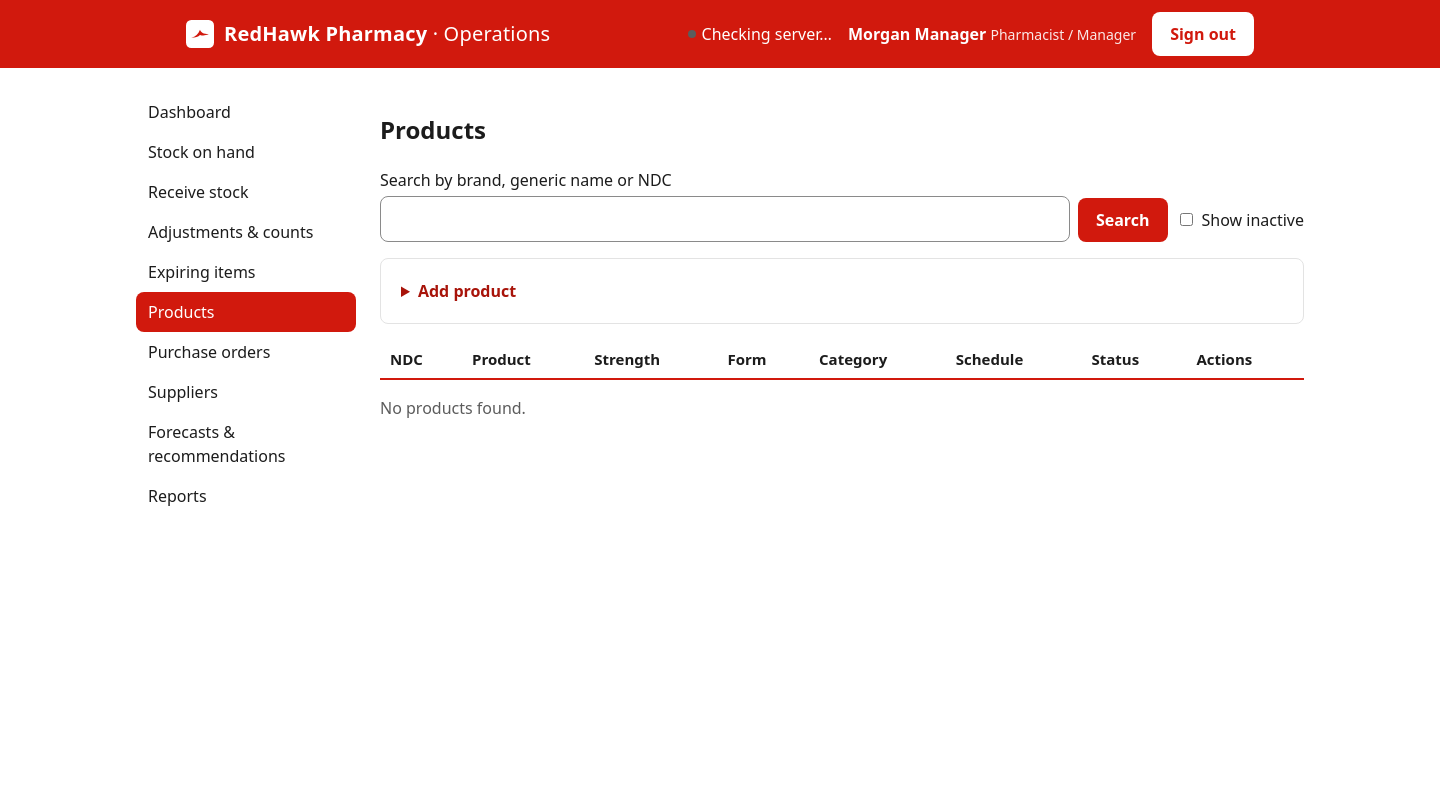
Test: products page (M02, F4) › managers can add a product, keeping NDC leading zeros (T25)
The image size is (1440, 795).
Click the heading "Add product" at (467, 291), box [418, 280, 516, 302]
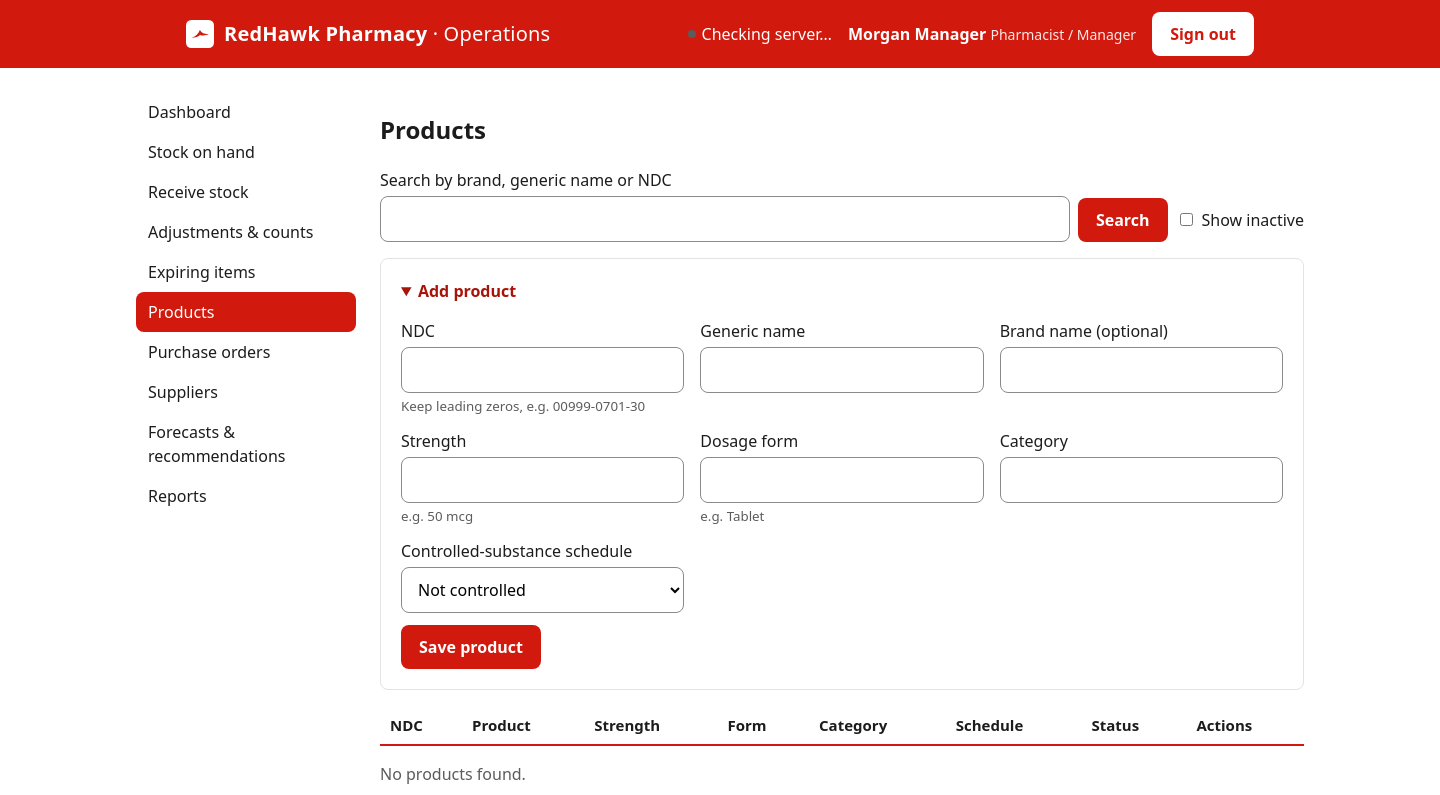
Type "00999-0701-30" into the field labelled "NDC" at (543, 370), box [401, 347, 684, 393]
Type "Levothyroxine" into the field labelled "Generic name" at (842, 370), box [700, 347, 984, 393]
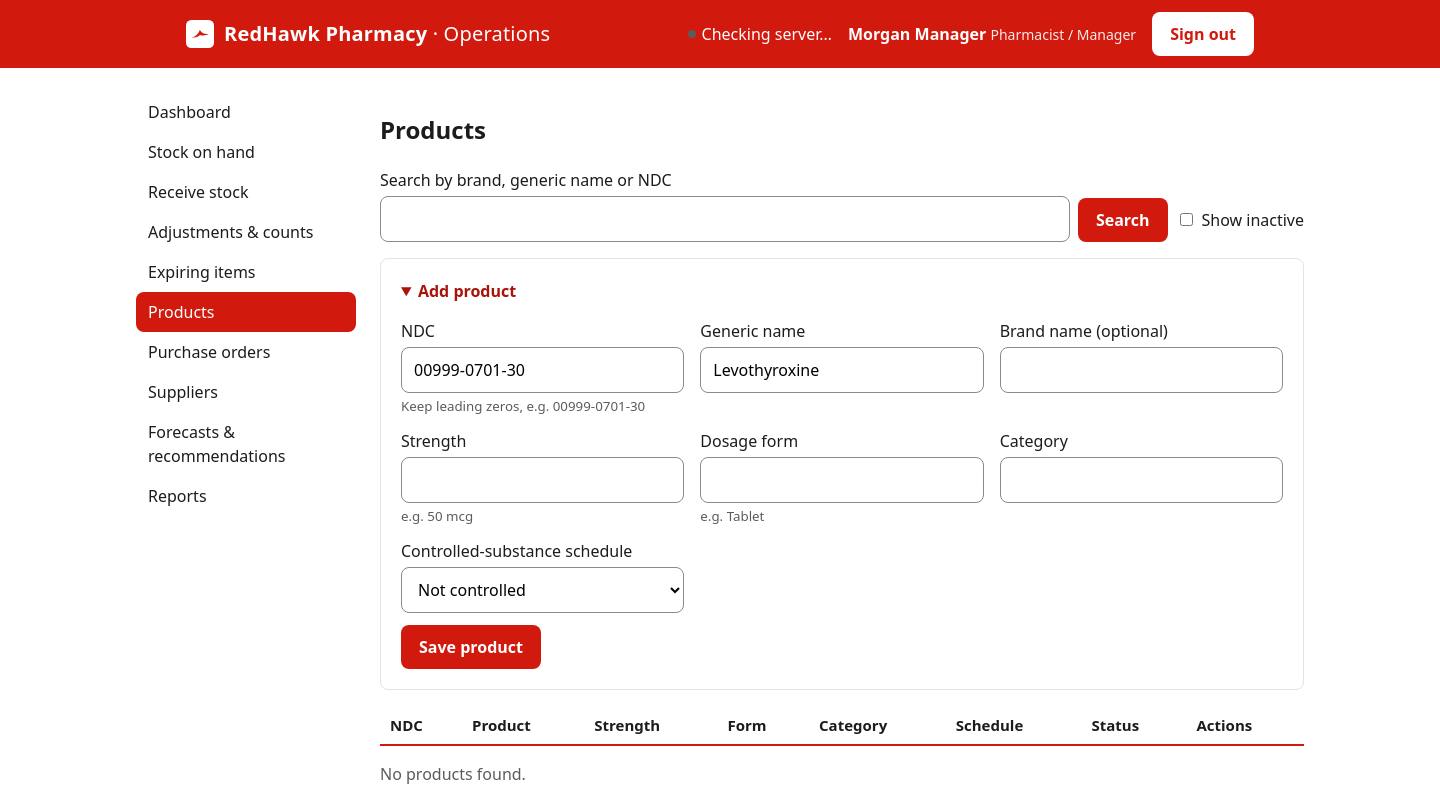
Type "50 mcg" into the field labelled "Strength" at (543, 480), box [401, 457, 684, 503]
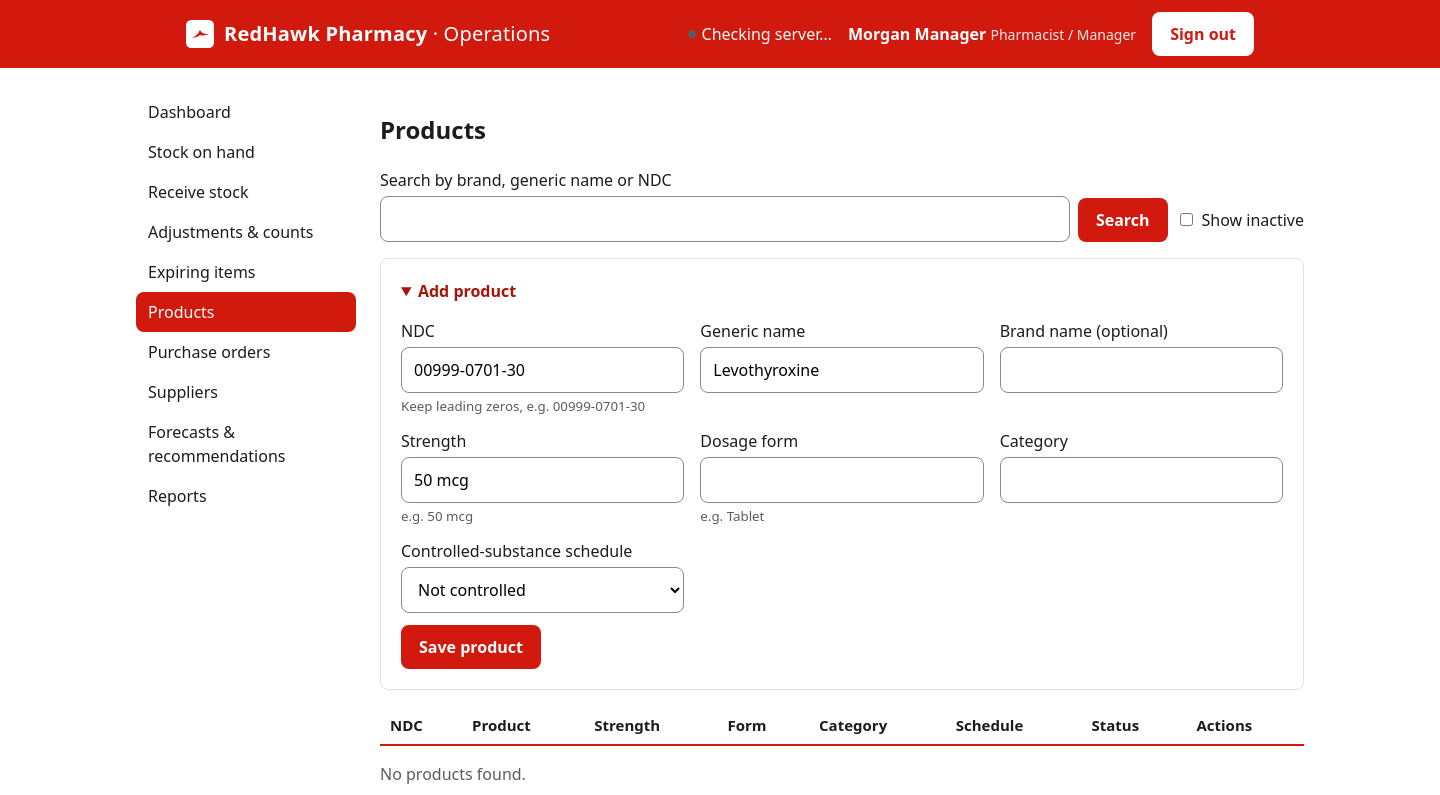
Type "Tablet" into the field labelled "Dosage form" at (842, 480), box [700, 457, 984, 503]
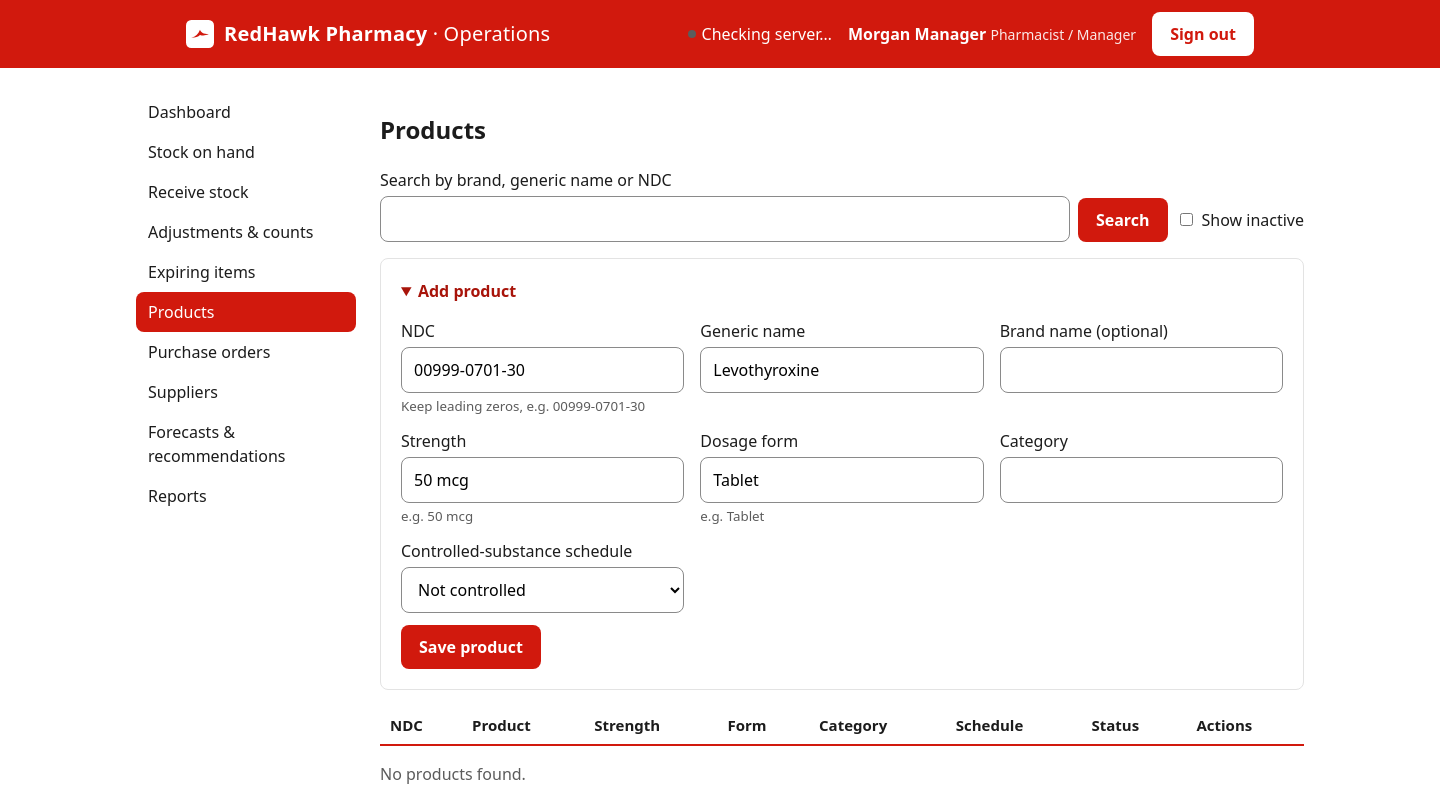
Type "Endocrine" into the field labelled "Category" at (1141, 480), box [1000, 457, 1283, 503]
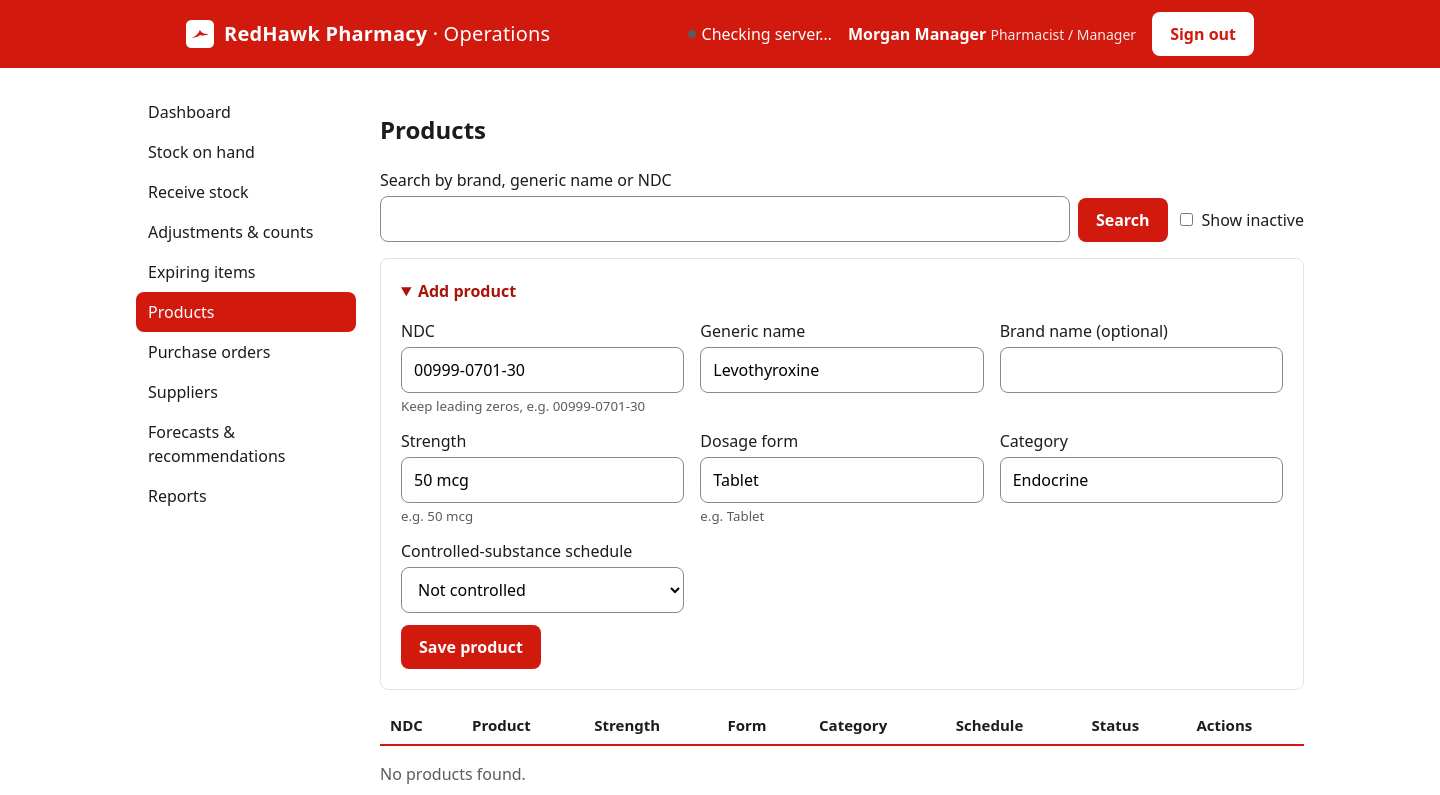
Click the button "Save product" at (471, 647), box [401, 625, 541, 669]
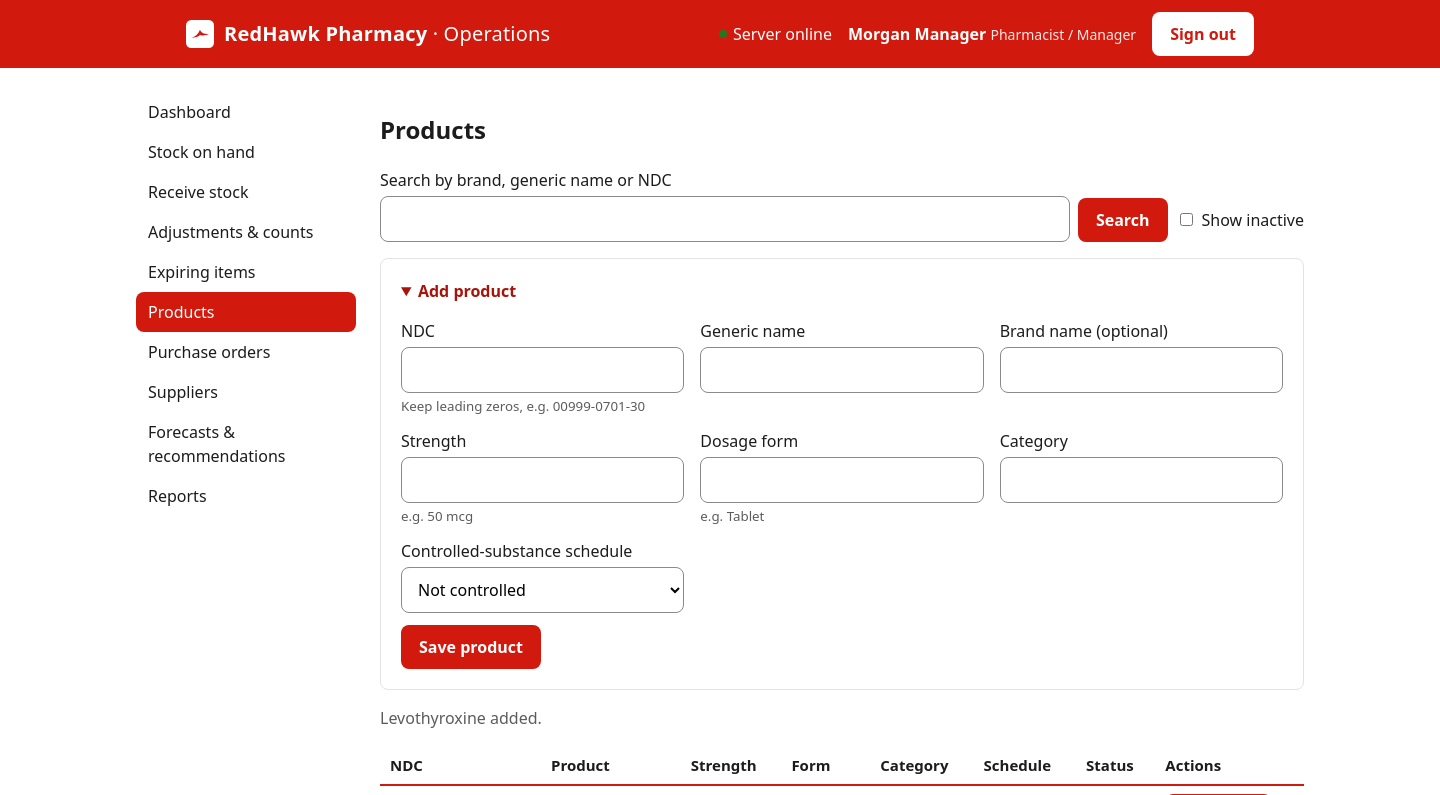
Expected: the text "Levothyroxine added." is shown, [380, 707, 542, 729]
